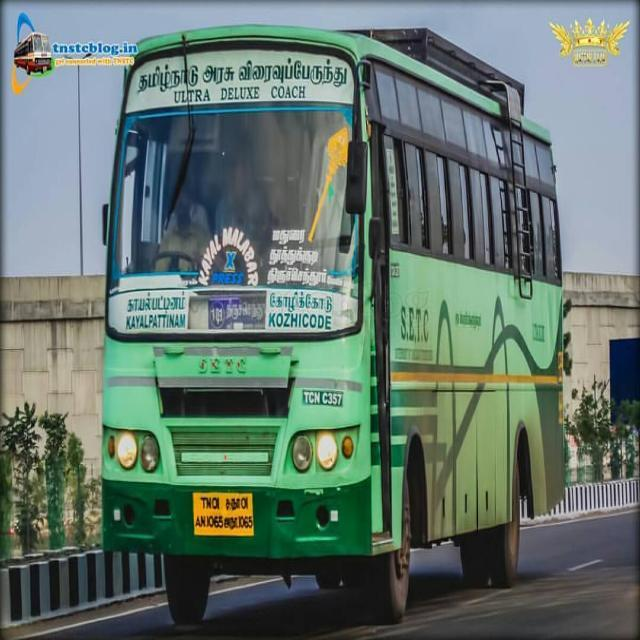Bus: (97, 20, 567, 622)
